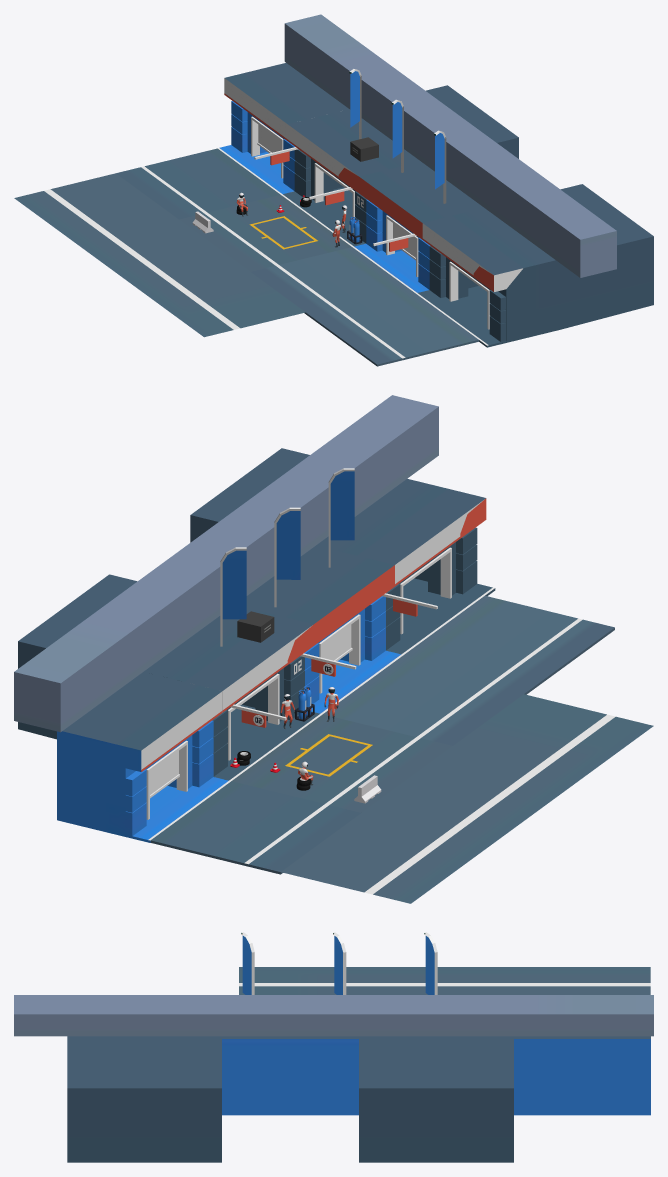
File: Parking.FBX
3 views of the same model, one above another, from view 1: azimuth 30°, elevation 25°; view 2: azimuth 150°, elevation 25°; view 3: azimuth 270°, elevation 25° (orthographic). The views are drawn at different scales.
Visible parts, largest first — view 1: Parking; view 2: Parking; view 3: Parking.
Boxes of the visible parts, box(x1,y1,x2,y2) form: Parking: box(14, 14, 653, 366); Parking: box(14, 395, 653, 903); Parking: box(14, 932, 653, 1162).
Bounding box in the file's own units: 20.25 × 7.7 × 28.
